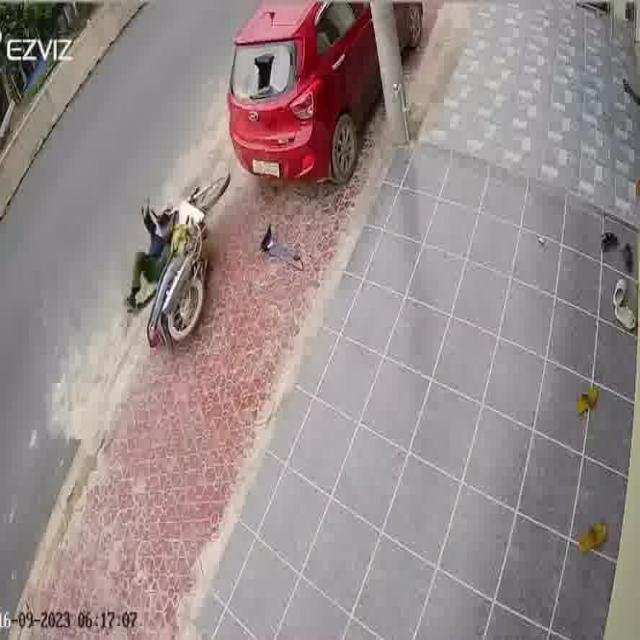multiple_accident: (118, 20, 323, 367)
